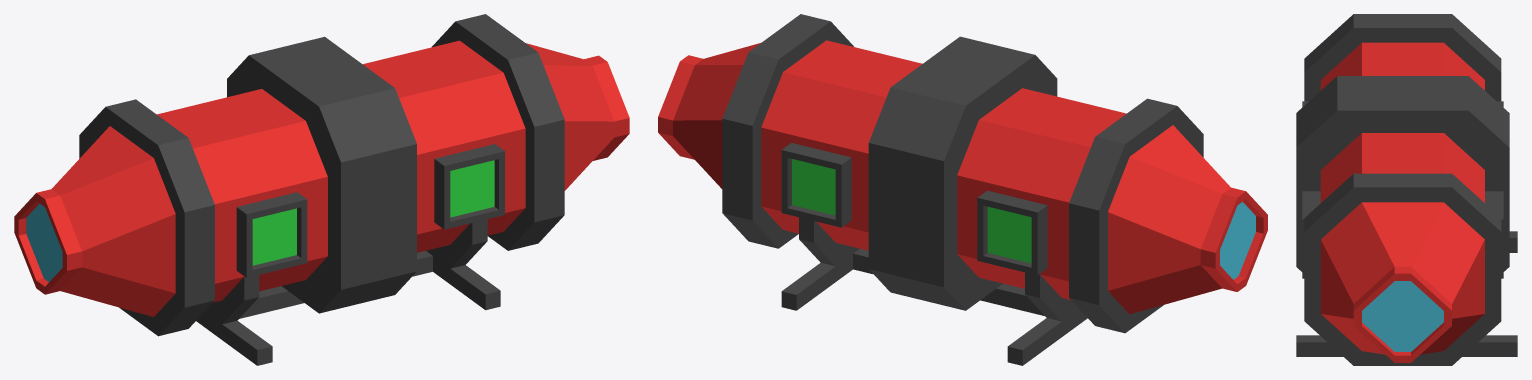
Rendered from WeaponCase.fbx.
3 renders of one model, left to right at view 1: azimuth 30°, elevation 25°; view 2: azimuth 150°, elevation 25°; view 3: azimuth 270°, elevation 25°, orthographic. The views are drawn at different scales.
Parts seen in each view (by area): view 1: Case_Half.002, Case_Half.001, Mount, Light.003, Light.000; view 2: Case_Half.002, Case_Half.001, Mount, Light.002, Light.001; view 3: Case_Half.001, Case_Half.002, Mount, Light.001, Light.000.
Boxes of the visible parts, left/top/right/bottom form: Case_Half.002: left=14, top=46, right=378, bottom=336; Case_Half.001: left=287, top=14, right=629, bottom=303; Mount: left=196, top=219, right=500, bottom=365; Light.003: left=236, top=192, right=307, bottom=277; Light.000: left=434, top=144, right=504, bottom=229; Case_Half.002: left=906, top=46, right=1267, bottom=333; Case_Half.001: left=658, top=14, right=997, bottom=301; Mount: left=781, top=217, right=1087, bottom=365; Light.002: left=977, top=190, right=1047, bottom=275; Light.001: left=781, top=143, right=851, bottom=227; Case_Half.001: left=1296, top=93, right=1509, bottom=365; Case_Half.002: left=1296, top=14, right=1509, bottom=129; Mount: left=1296, top=231, right=1517, bottom=356; Light.001: left=1485, top=191, right=1503, bottom=278; Light.000: left=1302, top=191, right=1320, bottom=278.
Size of the model in its own units: 740 by 280 by 270.
